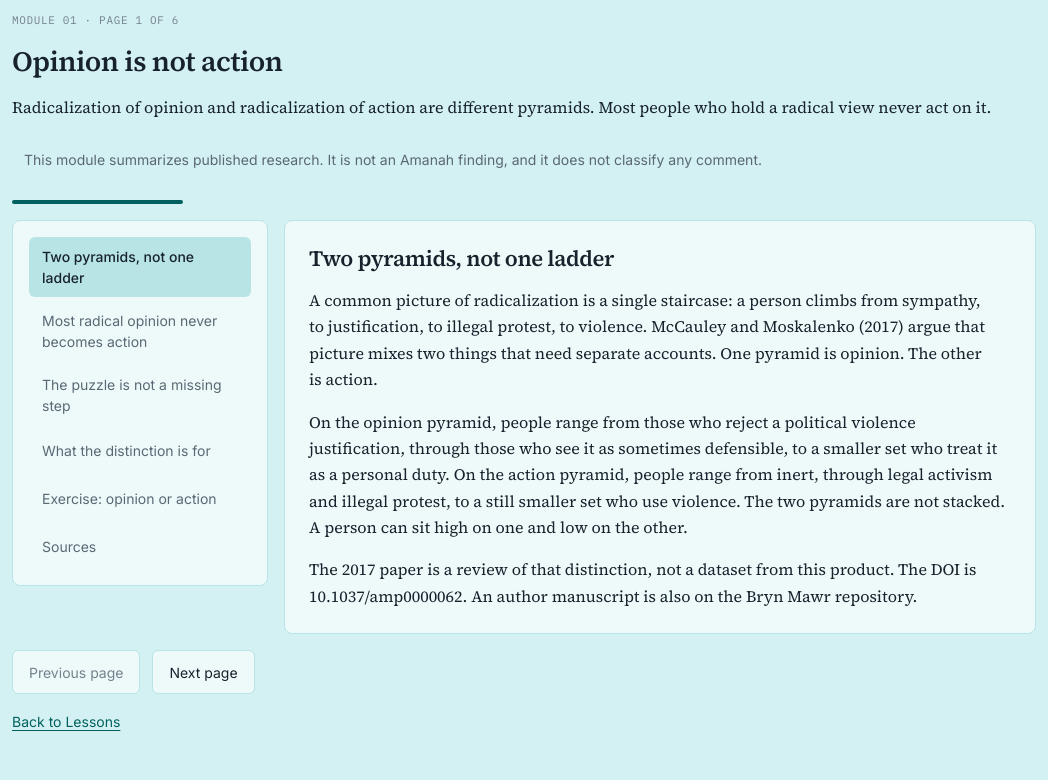
Test: LessonReaderPage › turns pages with next, previous, and arrow keys
This screenshot has width=1048, height=780.
Expected: the heading "Two pyramids, not one ladder" is shown, [309, 243, 614, 273]
Click the button "Next page" at (204, 672), box [152, 650, 255, 694]
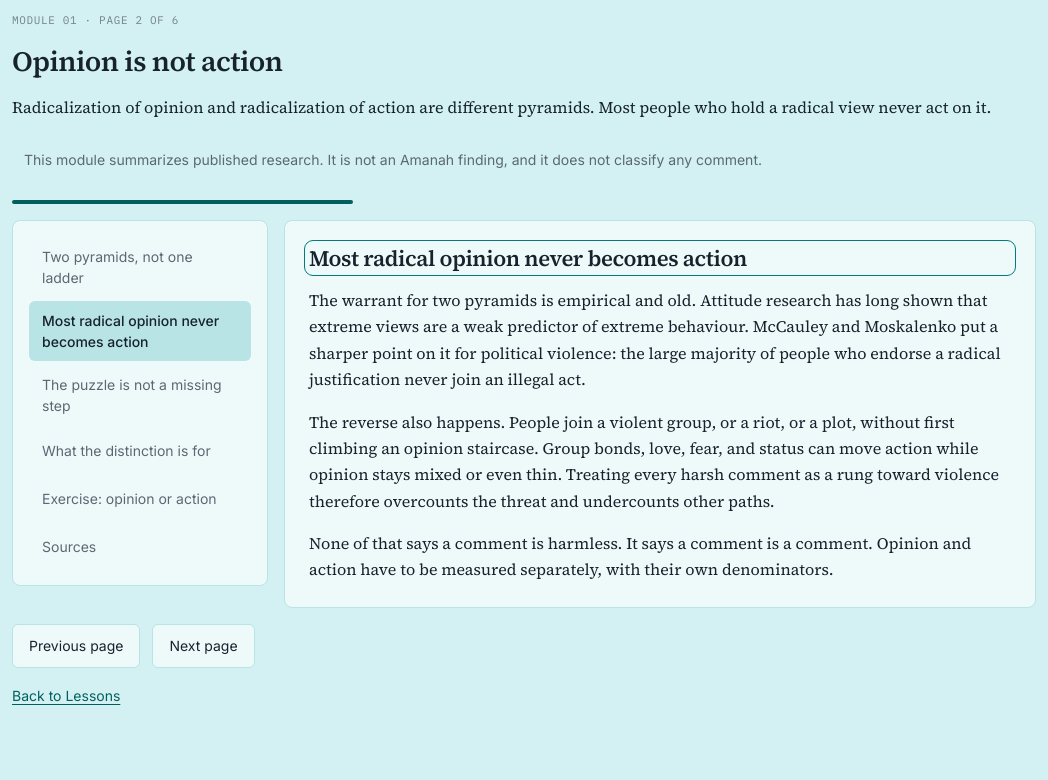
Expected: the heading "Most radical opinion never becomes action" is shown, [309, 243, 747, 273]
Press Arrowright
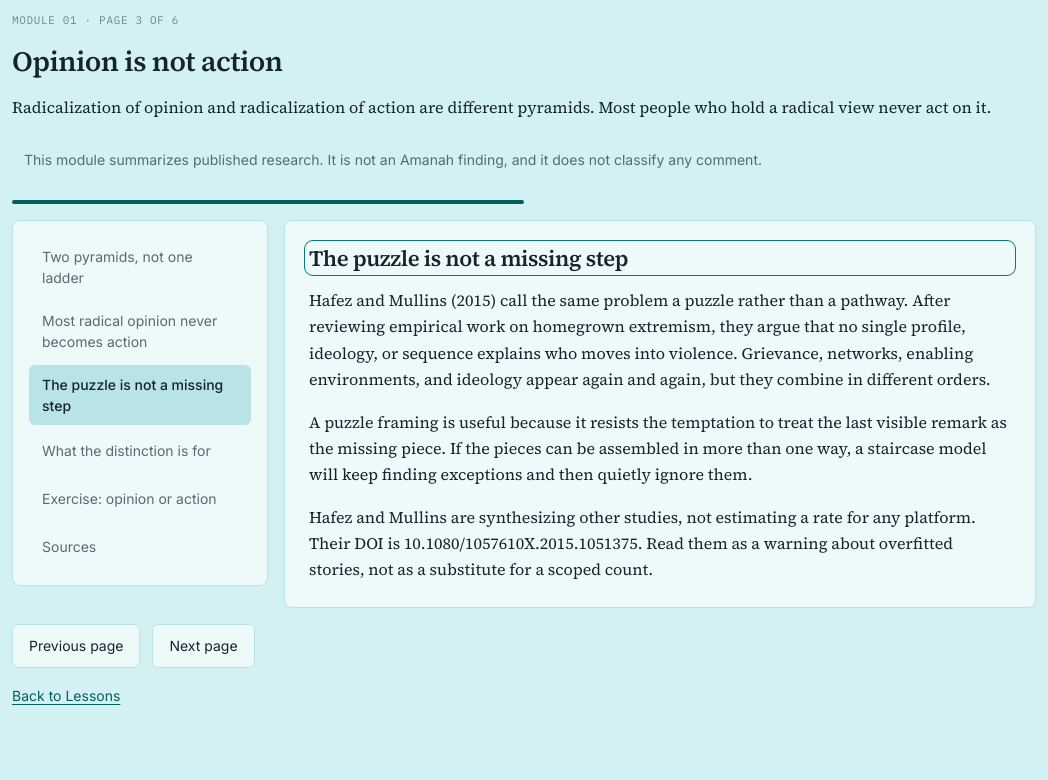
Expected: the heading "The puzzle is not a missing step" is shown, [309, 243, 628, 273]
Press Arrowleft
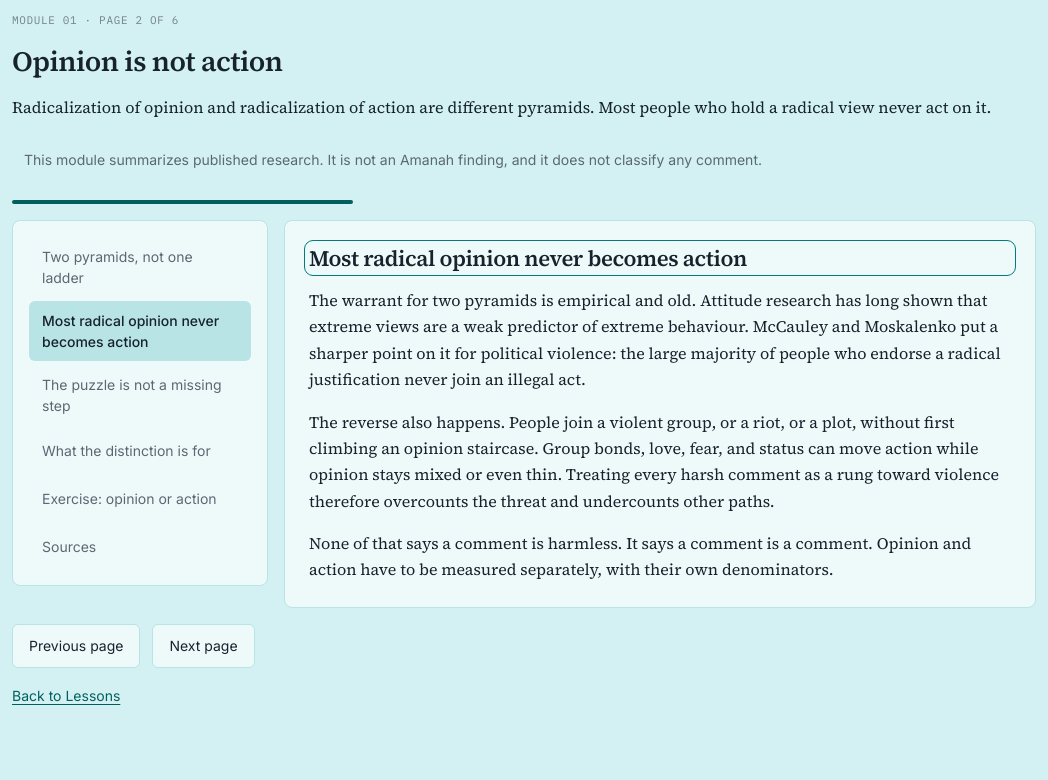
Expected: the heading "Most radical opinion never becomes action" is shown, [309, 243, 747, 273]
Click the button "Previous page" at (76, 646), box [12, 624, 140, 668]
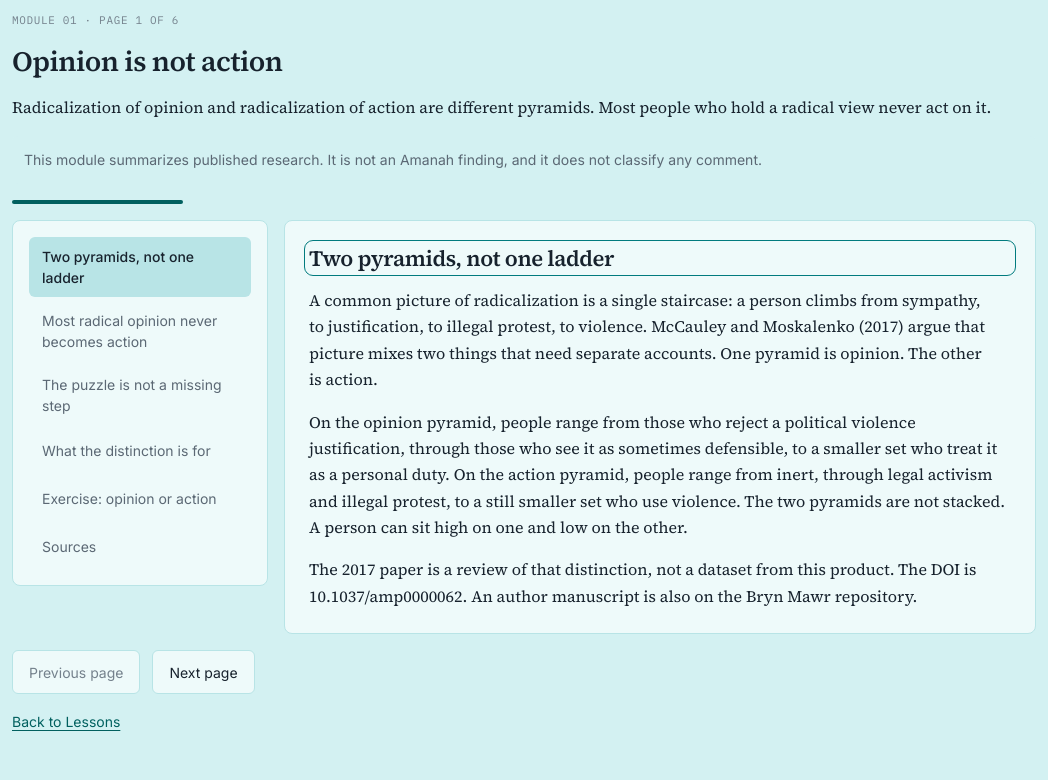
Expected: the heading "Two pyramids, not one ladder" is shown, [309, 243, 614, 273]
